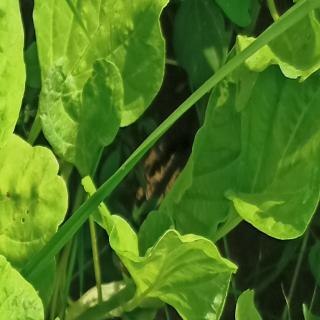karat_putih: (36, 0, 186, 91)
virus_keriting: (36, 54, 127, 165)
